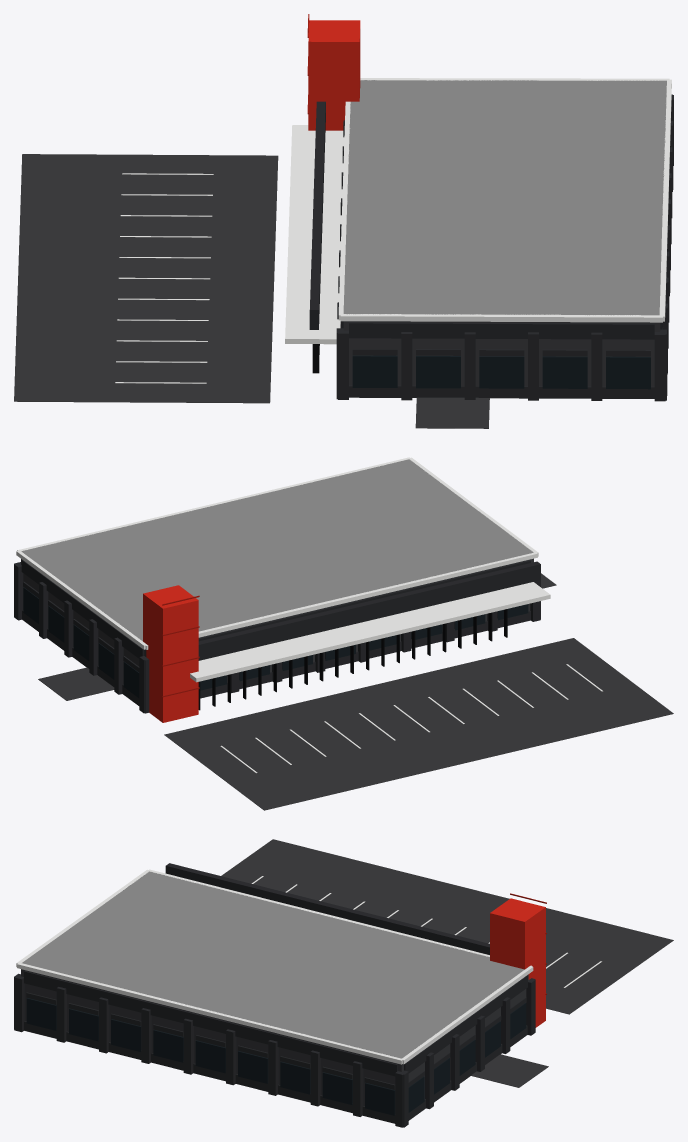
Rendered from mcd4.glb.
3 views of the same model, one above another, from view 1: azimuth 30°, elevation 25°; view 2: azimuth 150°, elevation 25°; view 3: azimuth 270°, elevation 25° (orthographic). The views are drawn at different scales.
Visible parts, largest first — view 1: mcd4_lod0; view 2: mcd4_lod0; view 3: mcd4_lod0.
Boxes of the visible parts, <box> form: mcd4_lod0: <box>14,14,673,428</box>; mcd4_lod0: <box>14,457,673,810</box>; mcd4_lod0: <box>14,839,673,1127</box>.
Size of what is drawn, in the model's own units: 46.78 by 8.94 by 45.24.
